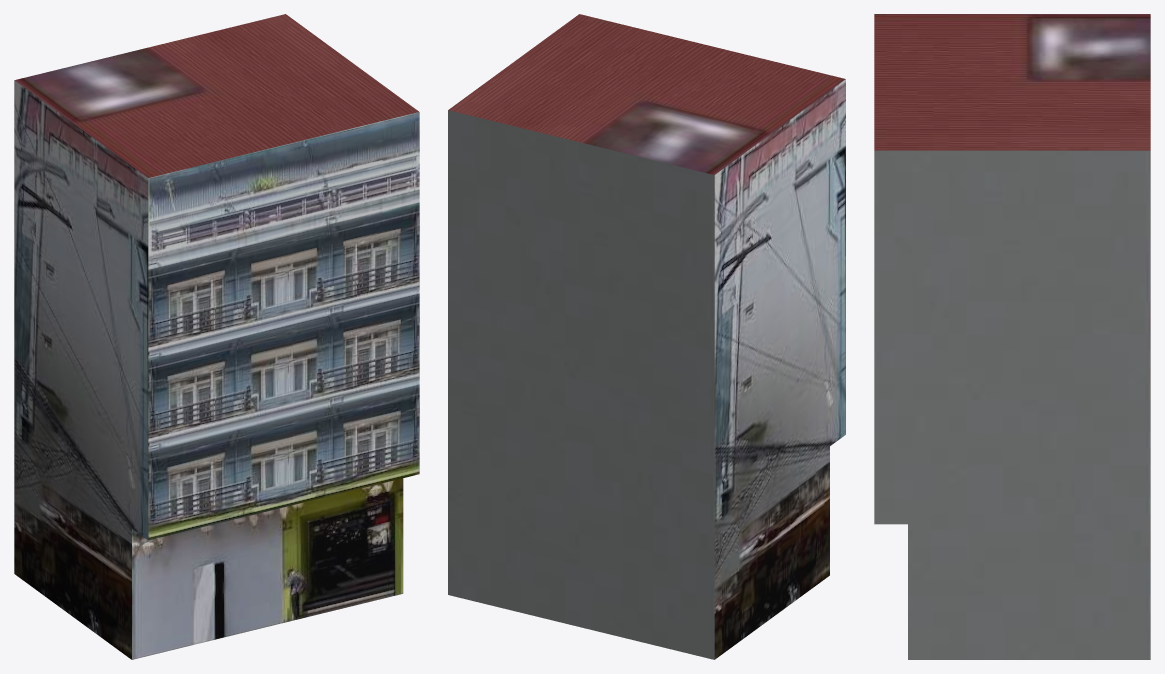
The picture shows the model from 3 angles, left to right: view 1: azimuth 30°, elevation 25°; view 2: azimuth 150°, elevation 25°; view 3: azimuth 270°, elevation 25°; orthographic projection. The views are drawn at different scales.
Parts seen in each view (by area): view 1: HN919___HaNoi_Center_Sills__Esence_Hotel; view 2: HN919___HaNoi_Center_Sills__Esence_Hotel; view 3: HN919___HaNoi_Center_Sills__Esence_Hotel.
Boxes of the visible parts, left/top/right/bottom form: HN919___HaNoi_Center_Sills__Esence_Hotel: left=14, top=14, right=419, bottom=659; HN919___HaNoi_Center_Sills__Esence_Hotel: left=448, top=14, right=845, bottom=659; HN919___HaNoi_Center_Sills__Esence_Hotel: left=874, top=14, right=1150, bottom=659.
Size of the model in its own units: 9.6 by 16.7 by 8.2.
Materials: 1 (1 with a texture image).
